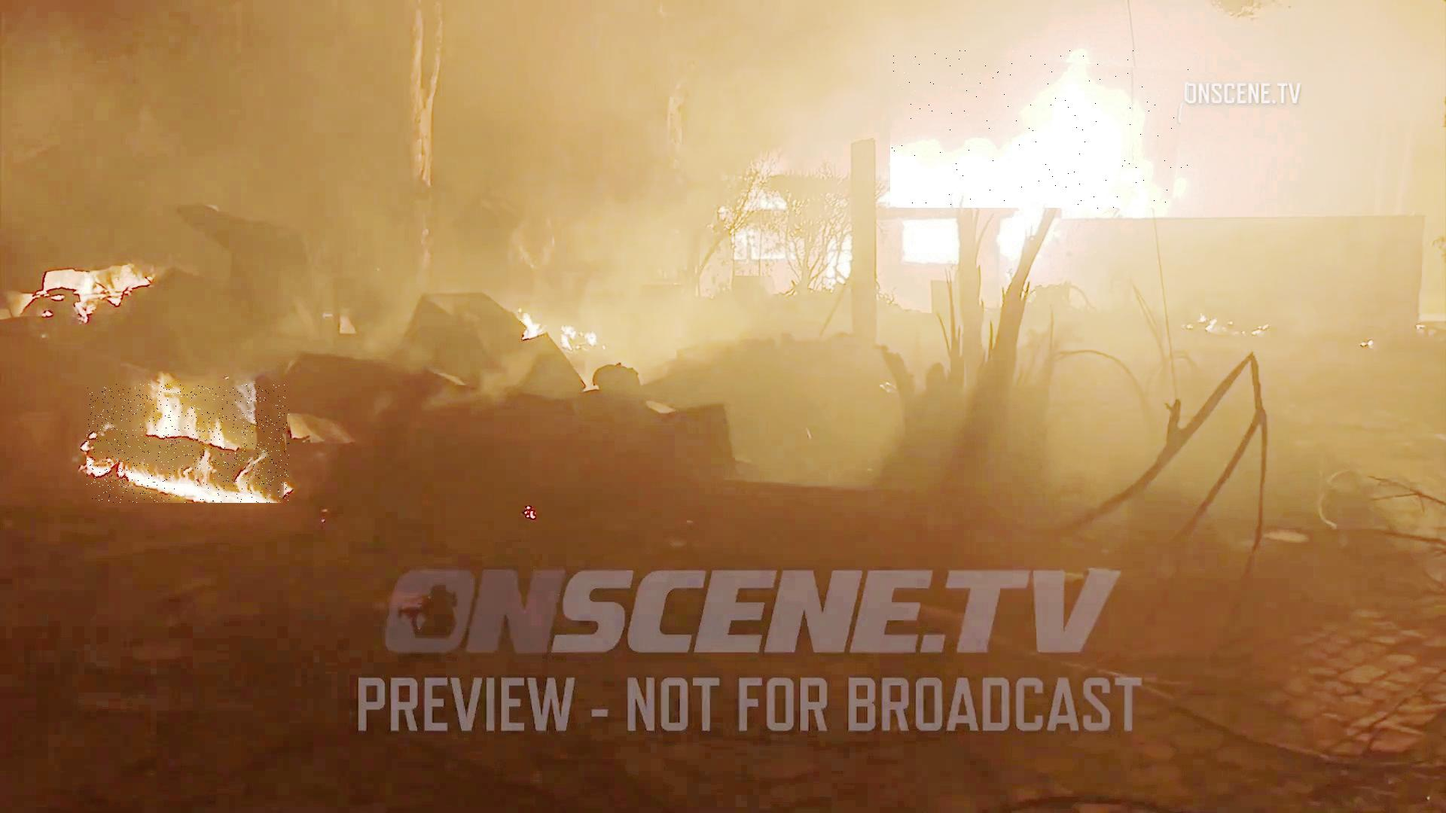fire: (891, 51, 1189, 210), (87, 384, 290, 503)
